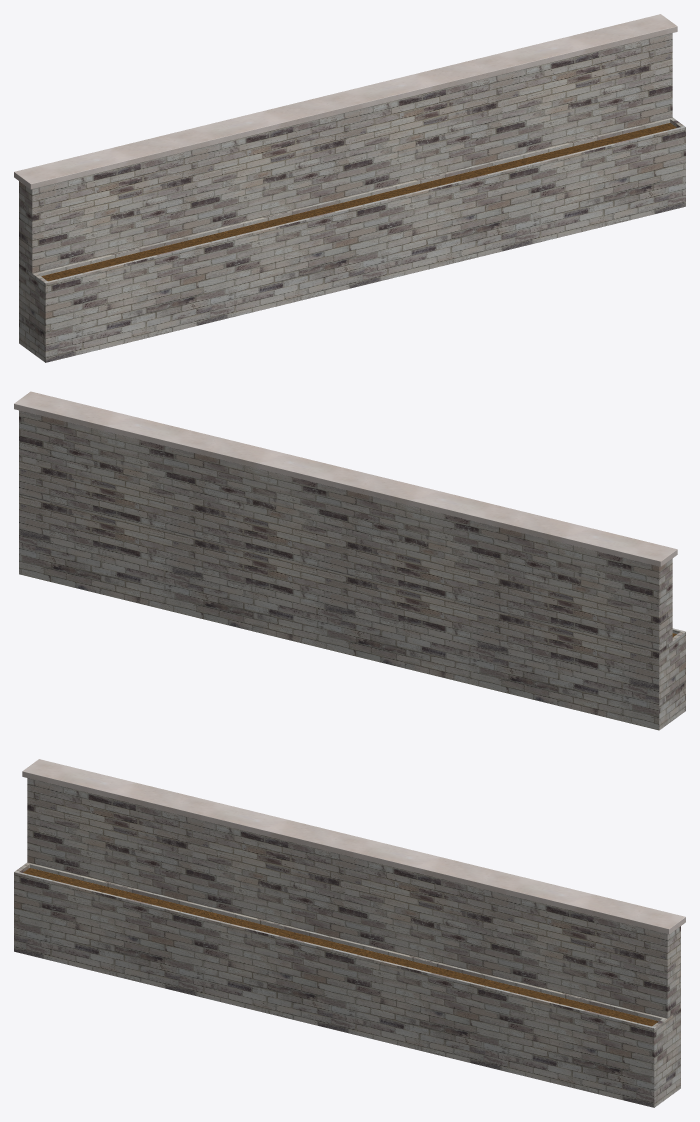
Rendered from brick_wall.gltf.
The picture shows the model from 3 angles, top to bottom: view 1: azimuth 30°, elevation 25°; view 2: azimuth 150°, elevation 25°; view 3: azimuth 330°, elevation 25°; orthographic projection.
Parts seen in each view (by area): view 1: brick_wall; view 2: brick_wall; view 3: brick_wall.
Boxes of the visible parts, bbox=[...] form: brick_wall: bbox=[14, 14, 685, 362]; brick_wall: bbox=[14, 391, 685, 730]; brick_wall: bbox=[14, 759, 685, 1107].
Size of the model in its own units: 16.99 by 4.3 by 1.29.
Materials: 3 (3 with a texture image).
